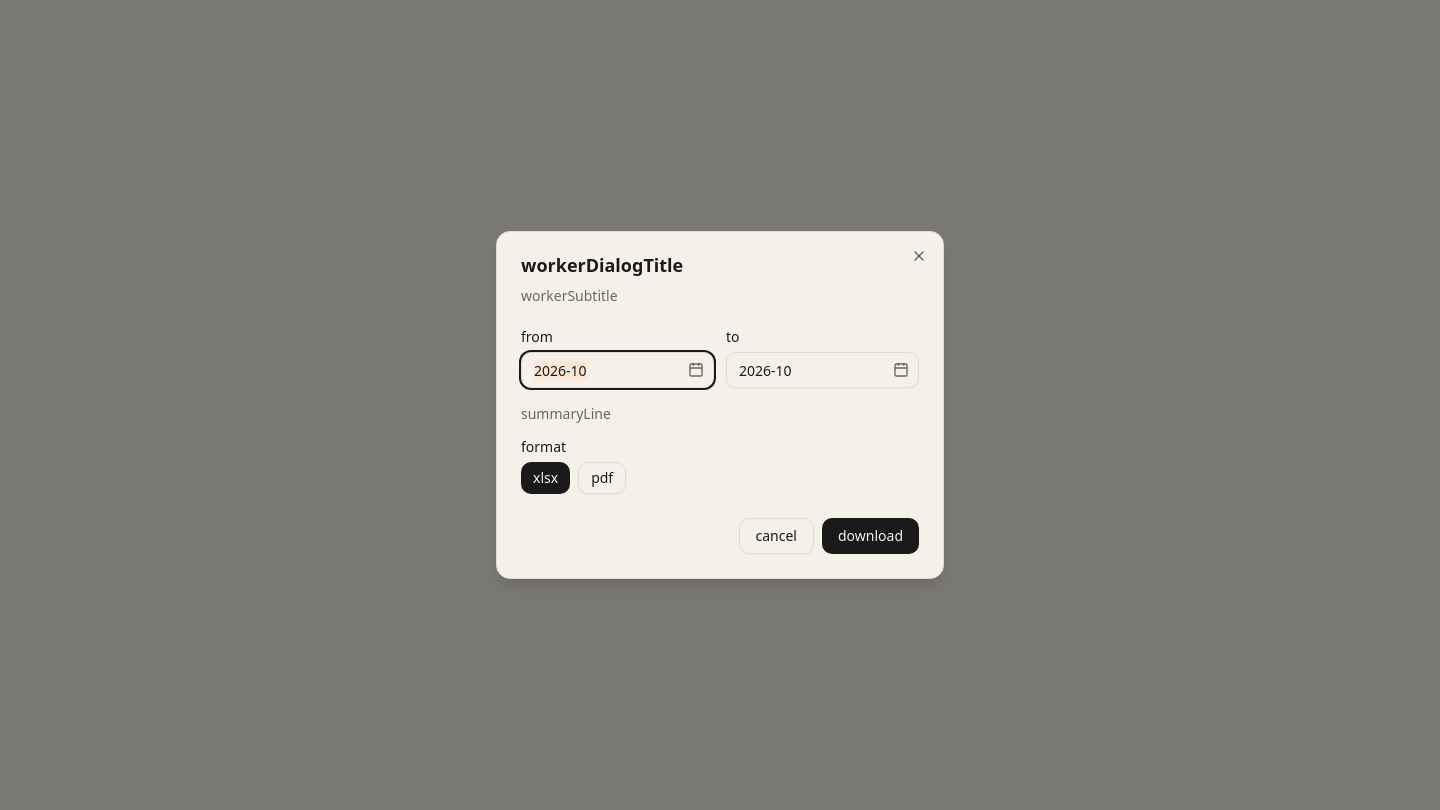
Scenario: LaborExportDialog — with worker prop (range validation) › shows errorRangeInvalid when from > to
Replace the text in the field with id "worker-export-from" with "2026-06" at (618, 370), box [521,352,714,388]
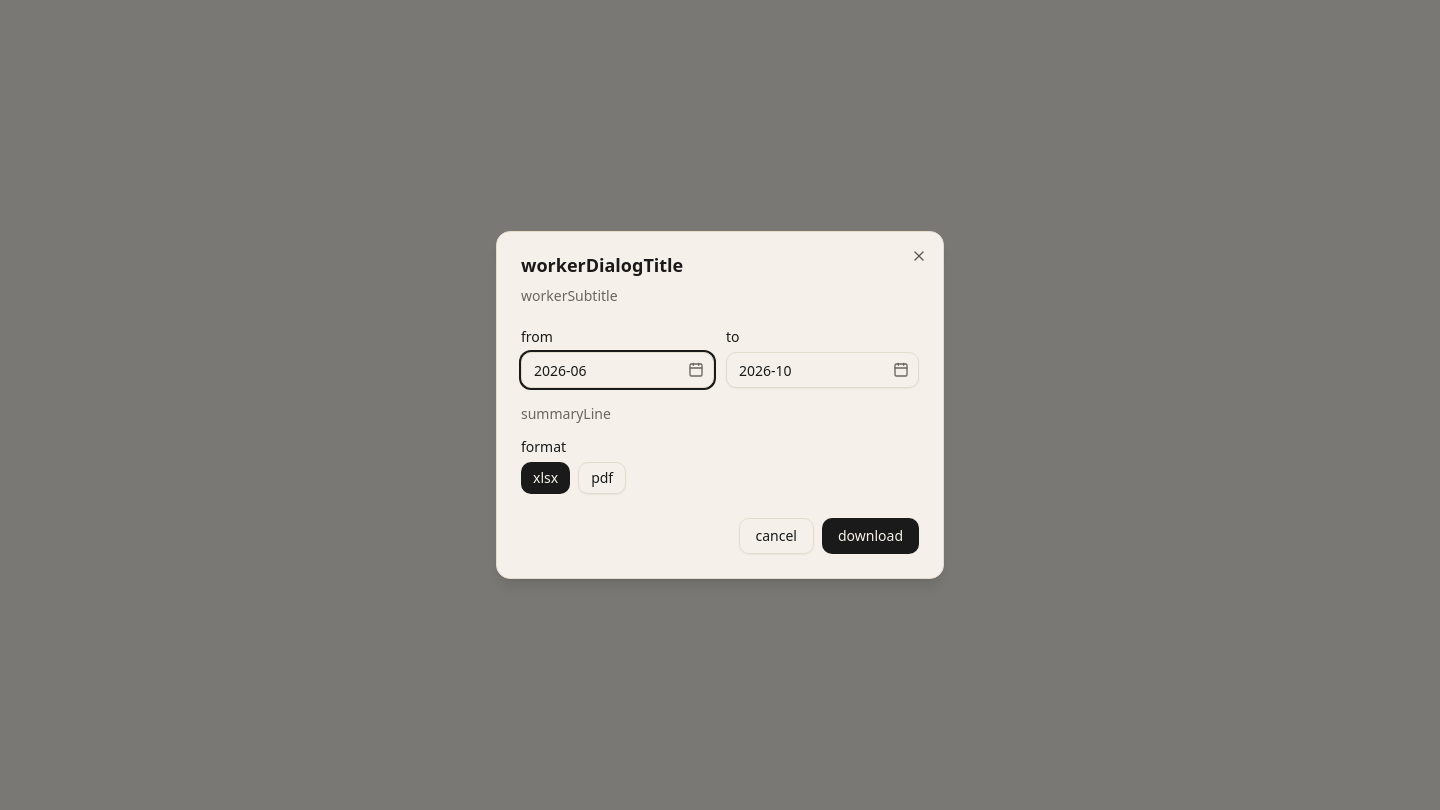
Replace the text in the field with id "worker-export-to" with "2026-03" at (822, 370), box [726,352,919,388]
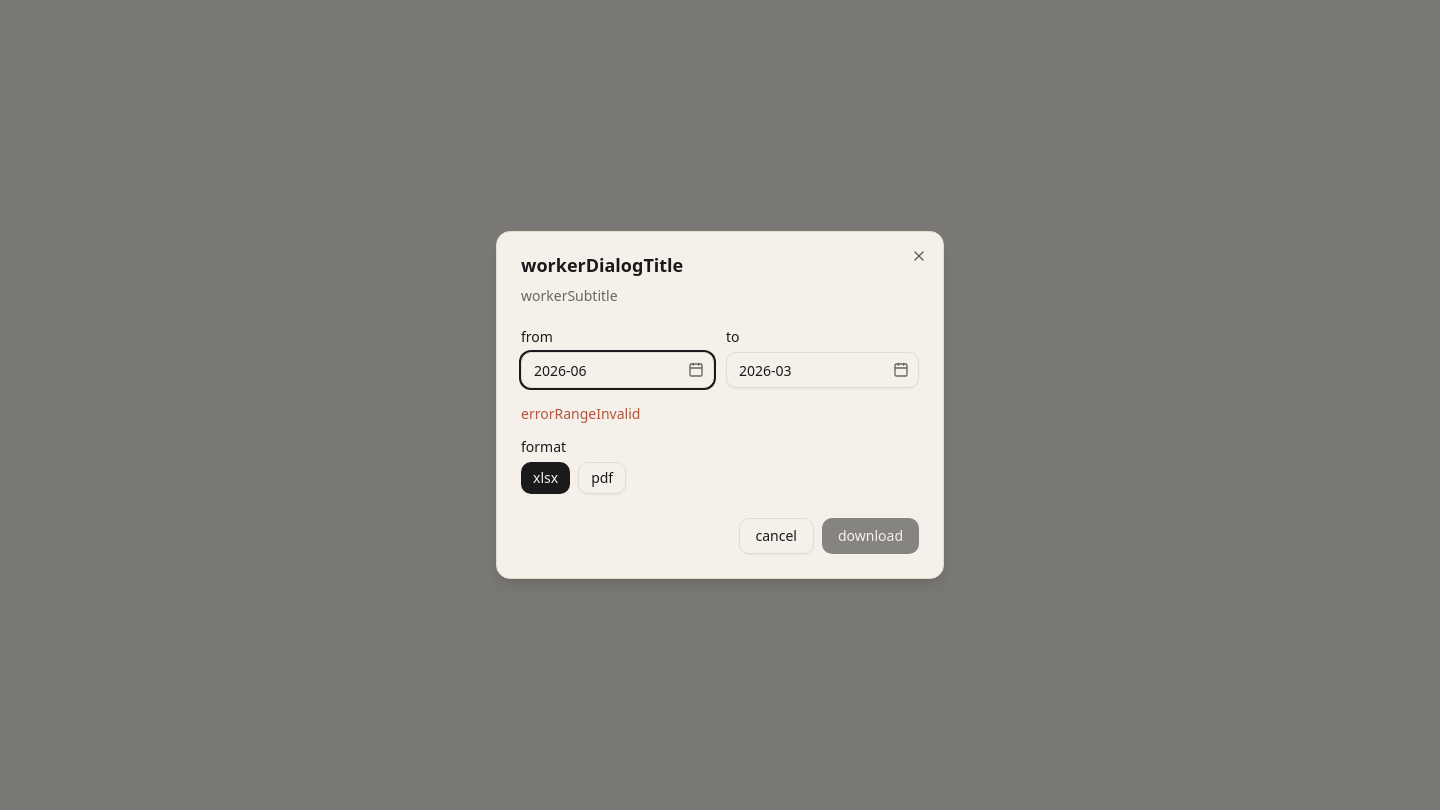
Expected: the text "errorRangeInvalid" is shown, [521,404,640,423]
Expected: the button "download" is disabled, [822,518,919,554]
